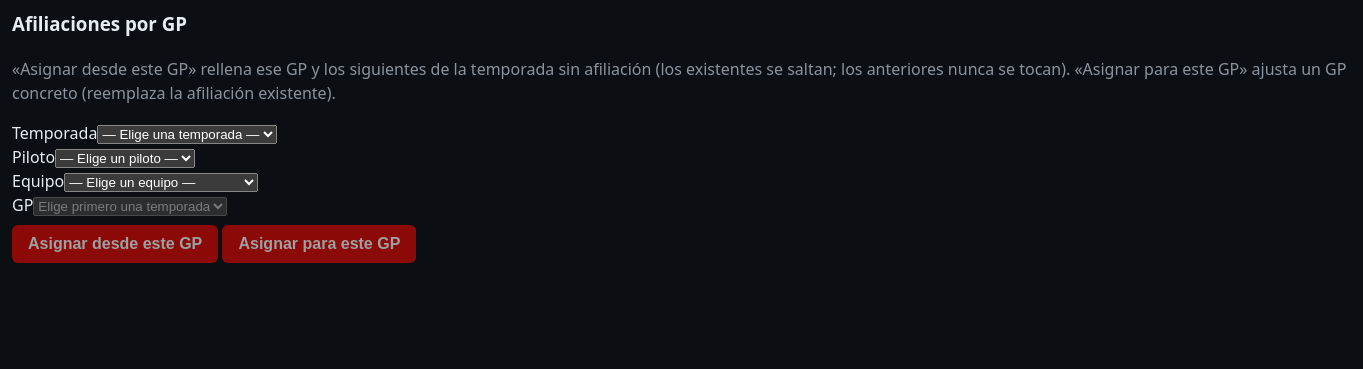
Test: AffiliationsPanel › pide elegir temporada antes de mostrar las afiliaciones
The width and height of the screenshot is (1363, 369).
Select "Francesco Bagnaia" in the dropdown labelled "Piloto": {"x": 125, "y": 158} [55,148,195,168]
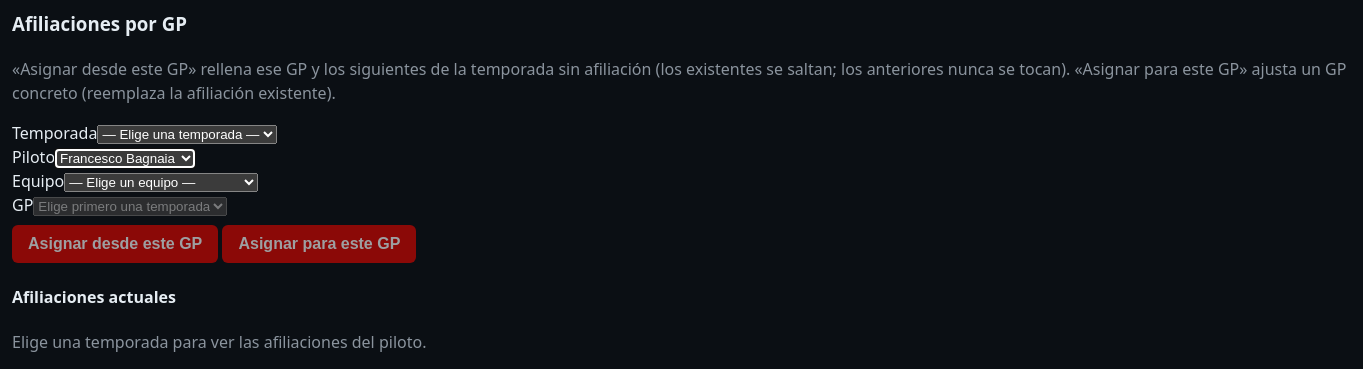
Result: the text "Elige una temporada para ver las afiliaciones del piloto." is shown at [12,331,426,353]
